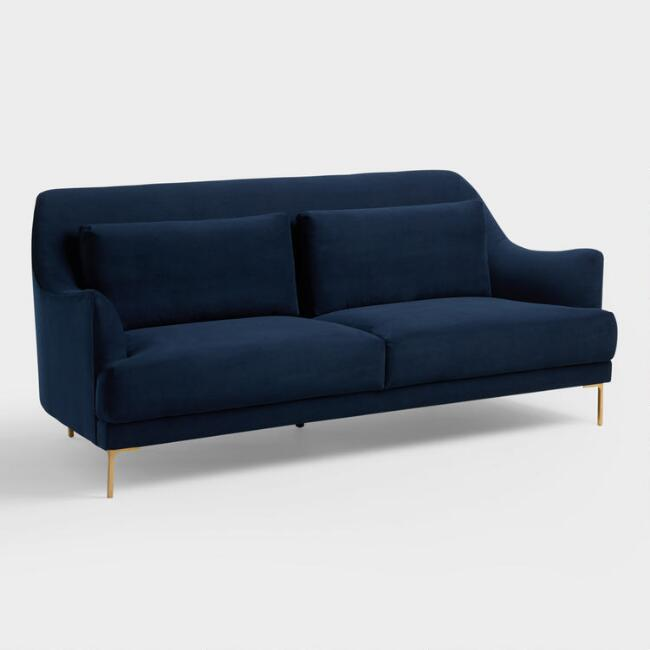chairs: (23, 170, 622, 498)
